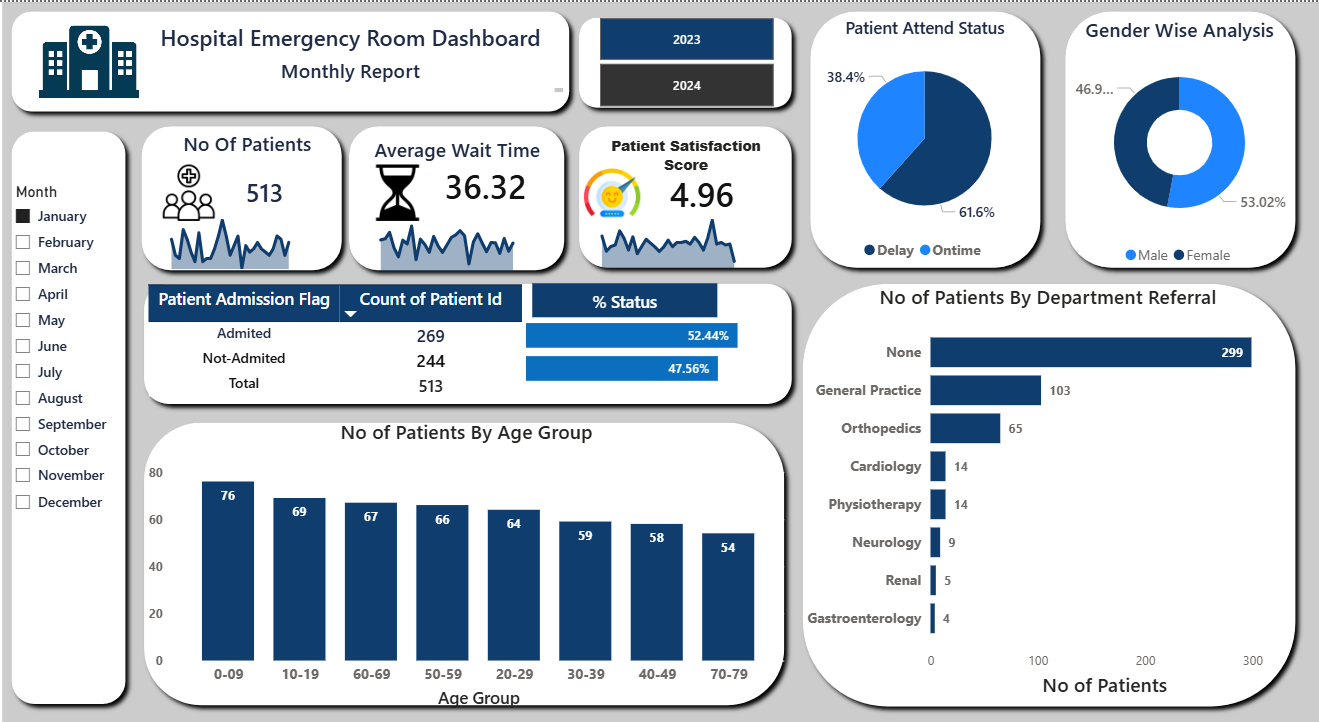

What the dashboard file says about the page in this screenshot:
{"tool":"powerbi","page":{"name":"Dashboard","canvas":[1280,720],"ordinal":1},"visuals":[{"type":"areaChart","fields":{"Category":["Hospital Emergency Room Data.Patient Age"]},"box":[11,0,1269.3,697],"z":0},{"type":"shape","box":[10.8,0,555.4,114.5],"z":1000},{"type":"shape","box":[557.8,6,222.9,104.8],"z":2000},{"type":"shape","box":[780.7,0,239.8,265.1],"z":3000},{"type":"shape","box":[10.8,115.7,127.7,569.9],"z":5000},{"type":"shape","box":[136.1,110.8,210.8,156.6],"z":6000},{"type":"shape","box":[336.1,110.8,225.3,156.6],"z":7000},{"type":"shape","box":[557.8,110.8,222.9,154.2],"z":8000},{"type":"shape","box":[138.6,396.4,634.9,290.4],"z":9000},{"type":"shape","box":[138.6,262.7,642.2,133.7],"z":10000},{"type":"shape","box":[773.5,262.7,492.8,425.3],"z":11000},{"type":"textbox","title":"Hospital Emergency Room Dashboard","box":[136.1,13.3,420.5,78.3],"z":12000},{"type":"image","box":[26.5,6,133.7,104.8],"z":13000},{"type":"textbox","box":[157.8,116.9,178.3,39.8],"z":14000},{"type":"textbox","box":[347,122.9,204.8,38.6],"z":15000},{"type":"textbox","box":[169,187.5,187.5,66],"z":16000},{"type":"cardVisual","fields":{"Data":["Count(Hospital Emergency Room Data.Patient Id)"]},"box":[220.5,156.6,115.7,54.2],"z":17000},{"type":"cardVisual","fields":{"Data":["Avg(Hospital Emergency Room Data.Patient Waittime)"]},"box":[408.4,144.6,148.2,66.3],"z":18000},{"type":"cardVisual","fields":{"Data":["Avg(Hospital Emergency Room Data.Patient Satisfaction Score)"]},"box":[625.3,151.8,148.2,66.3],"z":19000},{"type":"textbox","box":[569.9,122.9,200,55.4],"z":20000},{"type":"image","box":[569.9,156.6,57.8,54.2],"z":21000},{"type":"image","box":[160.2,156.6,60.2,54.2],"z":22000},{"type":"image","box":[361.4,156.6,60.2,54.2],"z":23000},{"type":"columnChart","title":"No of Patients By Age Group","fields":{"Category":["Hospital Emergency Room Data.Age Group"],"Y":["CountNonNull(Hospital Emergency Room Data.Age Group)"]},"box":[147,401.2,622.9,284.3],"z":31000},{"type":"pieChart","title":"Patient Attend Status","fields":{"Category":["Hospital Emergency Room Data.Patient attend status"],"Y":["CountNonNull(Hospital Emergency Room Data.Patient attend status)"]},"box":[780.7,13.3,238.6,244.6],"z":33000},{"type":"barChart","title":"No of Patients By Department Referral","fields":{"Category":["Hospital Emergency Room Data.Department Referral"],"Y":["CountNonNull(Hospital Emergency Room Data.Department Referral)"]},"box":[780.7,271.1,475.9,403.6],"z":37000},{"type":"stackedAreaChart","fields":{"Category":["Calendar_Table.Date.Variation.Date Hierarchy.Day"],"Y":["Count(Hospital Emergency Room Data.Patient Id)"]},"box":[155.4,196.4,180.7,66.3],"z":40001},{"type":"slicer","fields":{"Values":["Calendar_Table.Date.Variation.Date Hierarchy.Month"]},"box":[10.8,169.9,116.9,495.2],"z":40002},{"type":"stackedAreaChart","fields":{"Category":["Calendar_Table.Date.Variation.Date Hierarchy.Day"],"Y":["Avg(Hospital Emergency Room Data.Patient Waittime)"]},"box":[356.6,198.8,200,66.3],"z":40003},{"type":"stackedAreaChart","fields":{"Category":["Calendar_Table.Date.Variation.Date Hierarchy.Day"],"Y":["Avg(Hospital Emergency Room Data.Patient Satisfaction Score)"]},"box":[569.9,196.4,200,66.3],"z":40004},{"type":"shape","box":[1026.5,0,239.8,265.1],"z":40005},{"type":"donutChart","title":"Gender Wise Analysis","fields":{"Category":["Hospital Emergency Room Data.Patient Gender"],"Y":["CountNonNull(Hospital Emergency Room Data.Patient Gender)"]},"box":[1034.9,13.3,221.7,249.4],"z":40006},{"type":"pivotTable","fields":{"Rows":["Hospital Emergency Room Data.Patient Admission Flag"],"Values":["Count(Hospital Emergency Room Data.Patient Id)"]},"box":[147,267.5,622.9,120.5],"z":40007},{"type":"barChart","title":"% Status","fields":{"Y":["CountNonNull(Hospital Emergency Room Data.Patient Admission Flag)"],"Category":["Hospital Emergency Room Data.Patient Admission Flag"]},"box":[510.8,280.7,259,107.2],"z":40008},{"type":"textbox","box":[521.7,271.1,178.3,32.5],"z":40009},{"type":"slicer","fields":{"Values":["Calendar_Table.Date.Variation.Date Hierarchy.Year"]},"box":[566.3,13.3,207.2,89.2],"z":40010}]}

Visuals, with their boxes in screenshot pixels (x1, y1, x2, y2), scaled from the page's 1280x720 canvas onto the 1319x722 screenshot:
areaChart - Hospital Emergency Room Data.Patient Age: x1=11 y1=0 x2=1318 y2=699
shape: x1=11 y1=0 x2=583 y2=115
shape: x1=575 y1=6 x2=804 y2=111
shape: x1=804 y1=0 x2=1052 y2=266
shape: x1=11 y1=116 x2=143 y2=688
shape: x1=140 y1=111 x2=357 y2=268
shape: x1=346 y1=111 x2=579 y2=268
shape: x1=575 y1=111 x2=804 y2=266
shape: x1=143 y1=398 x2=797 y2=689
shape: x1=143 y1=263 x2=805 y2=398
shape: x1=797 y1=263 x2=1305 y2=690
"Hospital Emergency Room Dashboard" textbox: x1=140 y1=13 x2=574 y2=92
image: x1=27 y1=6 x2=165 y2=111
textbox: x1=163 y1=117 x2=346 y2=157
textbox: x1=358 y1=123 x2=569 y2=162
textbox: x1=174 y1=188 x2=367 y2=254
cardVisual - Count(Hospital Emergency Room Data.Patient Id): x1=227 y1=157 x2=346 y2=211
cardVisual - Avg(Hospital Emergency Room Data.Patient Waittime): x1=421 y1=145 x2=574 y2=211
cardVisual - Avg(Hospital Emergency Room Data.Patient Satisfaction Score): x1=644 y1=152 x2=797 y2=219
textbox: x1=587 y1=123 x2=793 y2=179
image: x1=587 y1=157 x2=647 y2=211
image: x1=165 y1=157 x2=227 y2=211
image: x1=372 y1=157 x2=434 y2=211
"No of Patients By Age Group" columnChart: x1=151 y1=402 x2=793 y2=687
"Patient Attend Status" pieChart: x1=804 y1=13 x2=1050 y2=259
"No of Patients By Department Referral" barChart: x1=804 y1=272 x2=1295 y2=677
stackedAreaChart - Calendar_Table.Date.Variation.Date Hierarchy.Day x Count(Hospital Emergency Room Data.Patient Id): x1=160 y1=197 x2=346 y2=263
slicer - Calendar_Table.Date.Variation.Date Hierarchy.Month: x1=11 y1=170 x2=132 y2=667
stackedAreaChart - Calendar_Table.Date.Variation.Date Hierarchy.Day x Avg(Hospital Emergency Room Data.Patient Waittime): x1=367 y1=199 x2=574 y2=266
stackedAreaChart - Calendar_Table.Date.Variation.Date Hierarchy.Day x Avg(Hospital Emergency Room Data.Patient Satisfaction Score): x1=587 y1=197 x2=793 y2=263
shape: x1=1058 y1=0 x2=1305 y2=266
"Gender Wise Analysis" donutChart: x1=1066 y1=13 x2=1295 y2=263
pivotTable - Hospital Emergency Room Data.Patient Admission Flag x Count(Hospital Emergency Room Data.Patient Id): x1=151 y1=268 x2=793 y2=389
"% Status" barChart: x1=526 y1=281 x2=793 y2=389
textbox: x1=538 y1=272 x2=721 y2=304
slicer - Calendar_Table.Date.Variation.Date Hierarchy.Year: x1=584 y1=13 x2=797 y2=103
